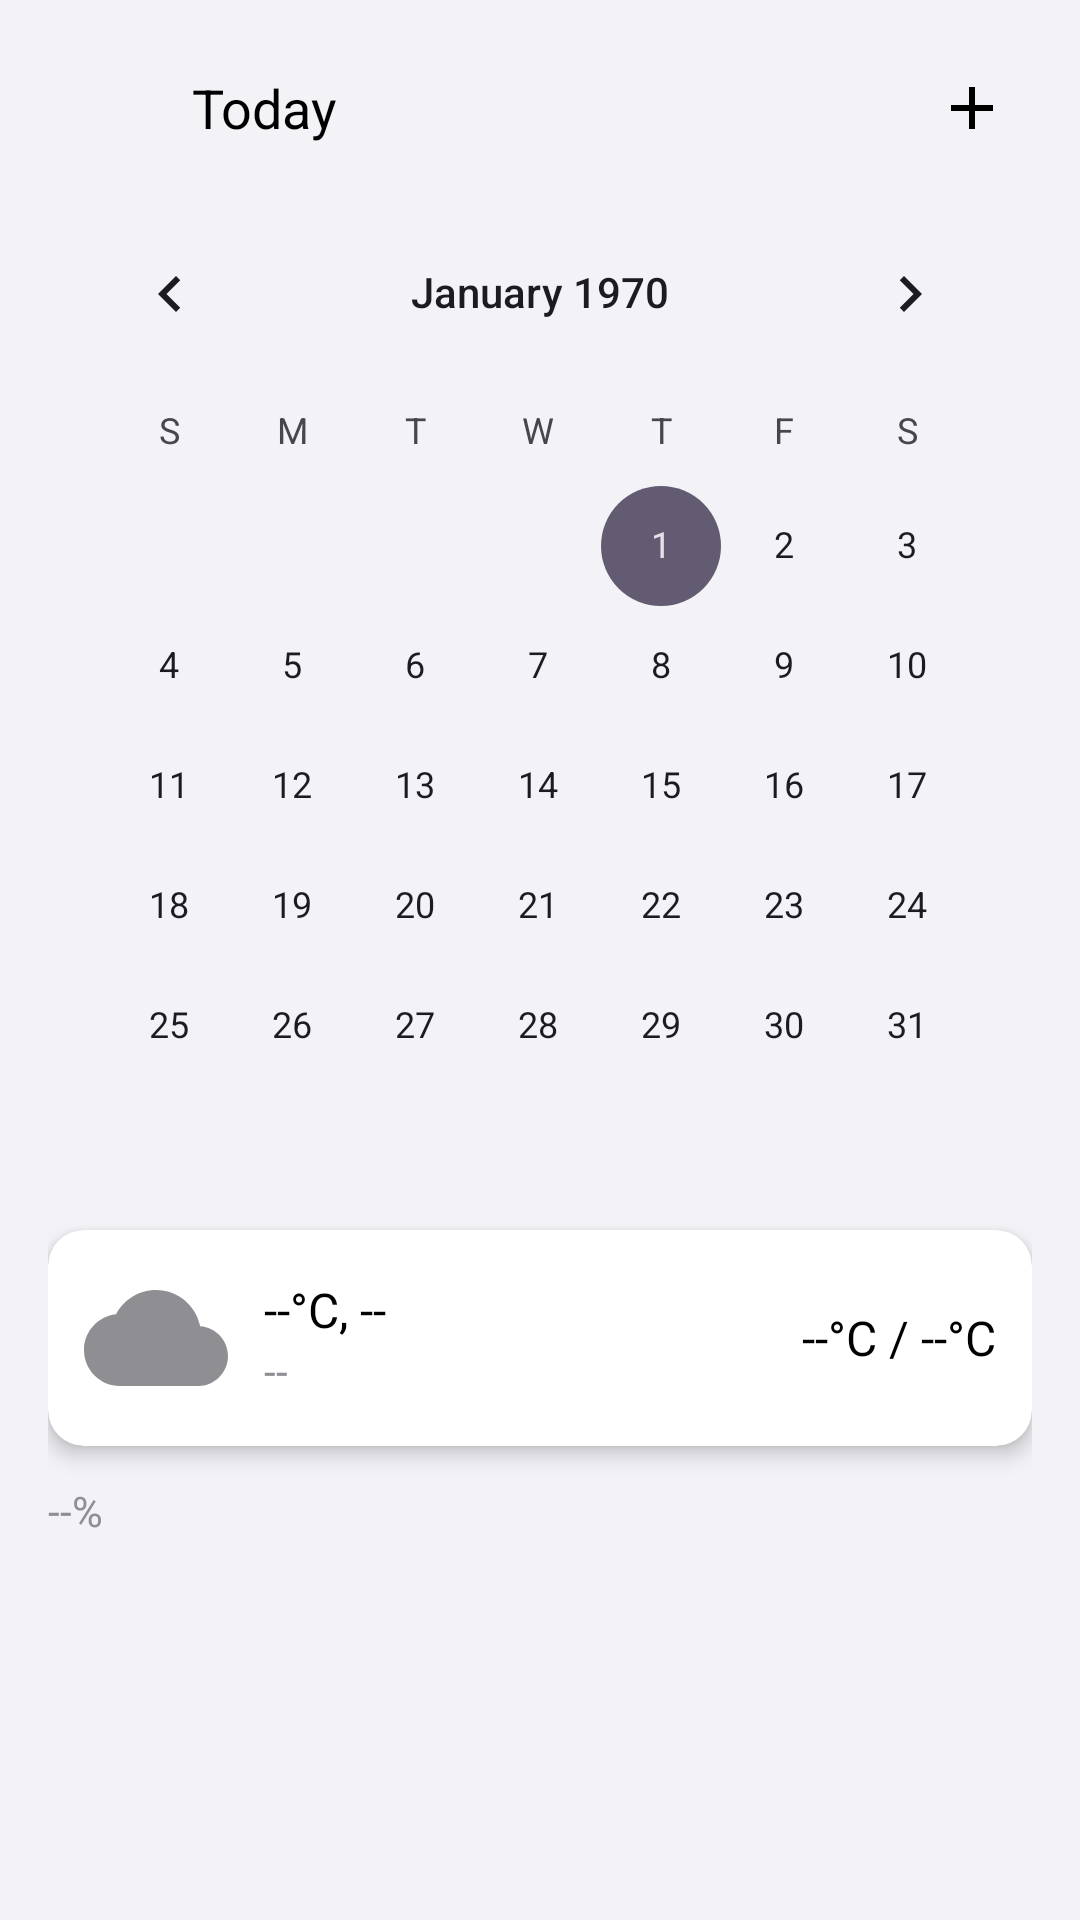

Icons on this 1080px x 1920px Android screen, each with its box as region(x1, y1, x2, y2):
Add: region(951, 87, 993, 129)
Forecast Icon: region(84, 1290, 228, 1386)
